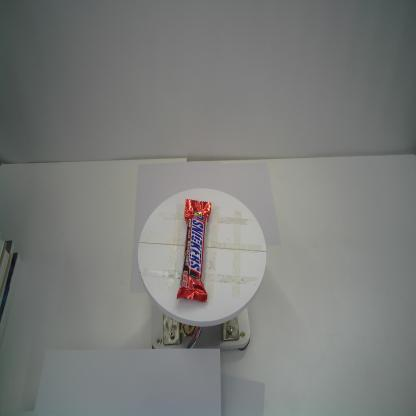Chocolate: (176, 198, 212, 303)
